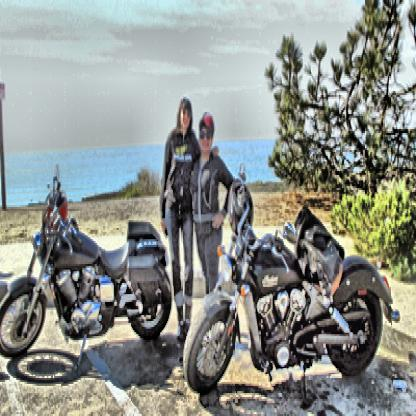not_wear: (227, 182, 251, 242), (47, 192, 68, 236), (199, 112, 213, 152), (179, 94, 191, 130)
